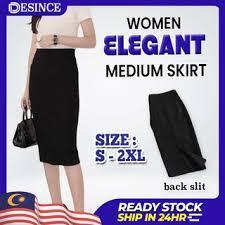skirt: (29, 47, 82, 166), (148, 90, 208, 178)
